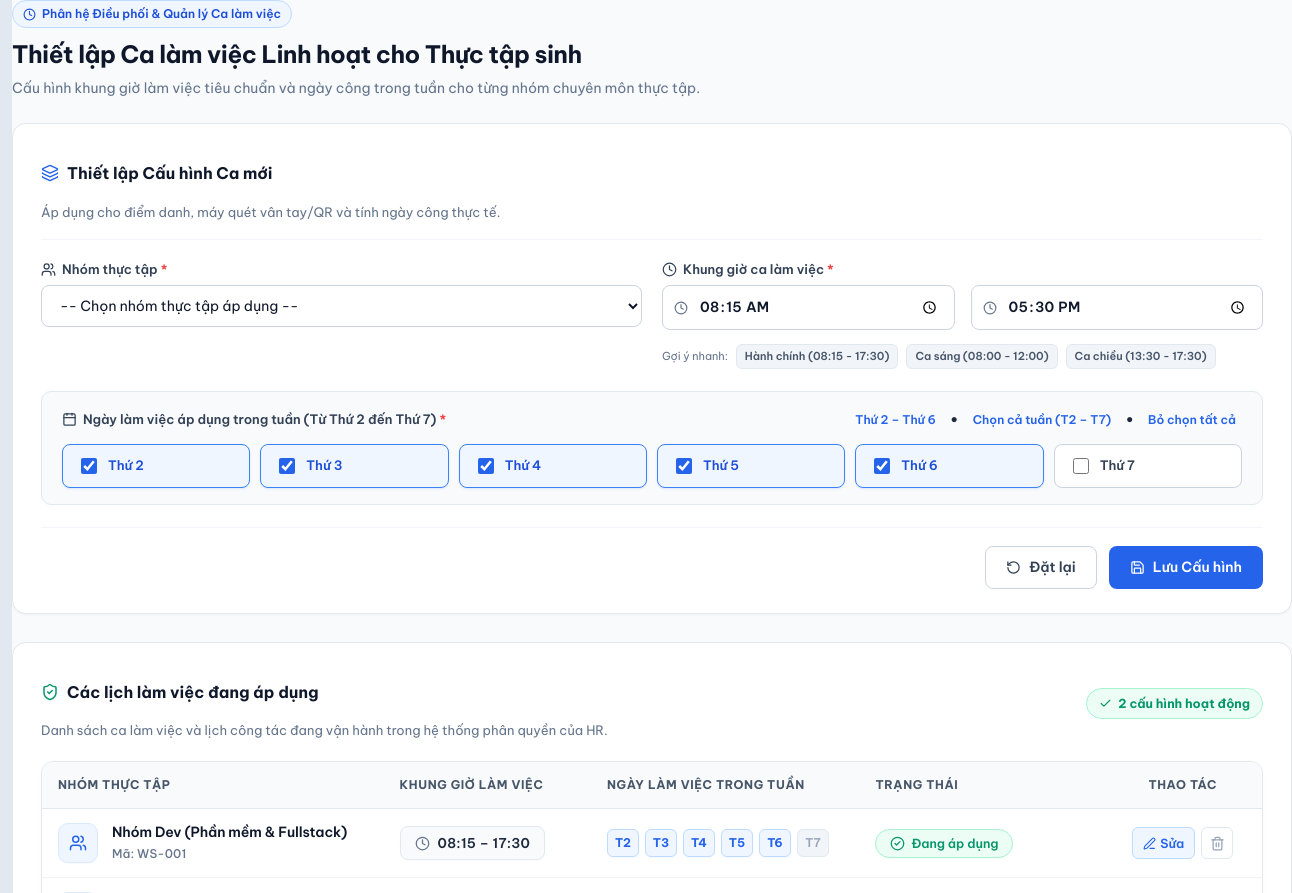
WorkScheduleSettings Component Test Suite › 5. Chức năng Chỉnh sửa Lịch làm việc (Nút "Sửa") › khi cập nhật và lưu thay đổi, gọi API updateWorkSchedule và cập nhật hàng trên bảng
Expected: the row with test id "schedule-row-WS-001" is shown, 42,809 -> 1262,878
# Bấm nút "Sửa" ở dòng WS-001
Click the button with test id "btn-edit-WS-001" at (1164, 843), box 1132,827 -> 1195,860
(page scrolled)
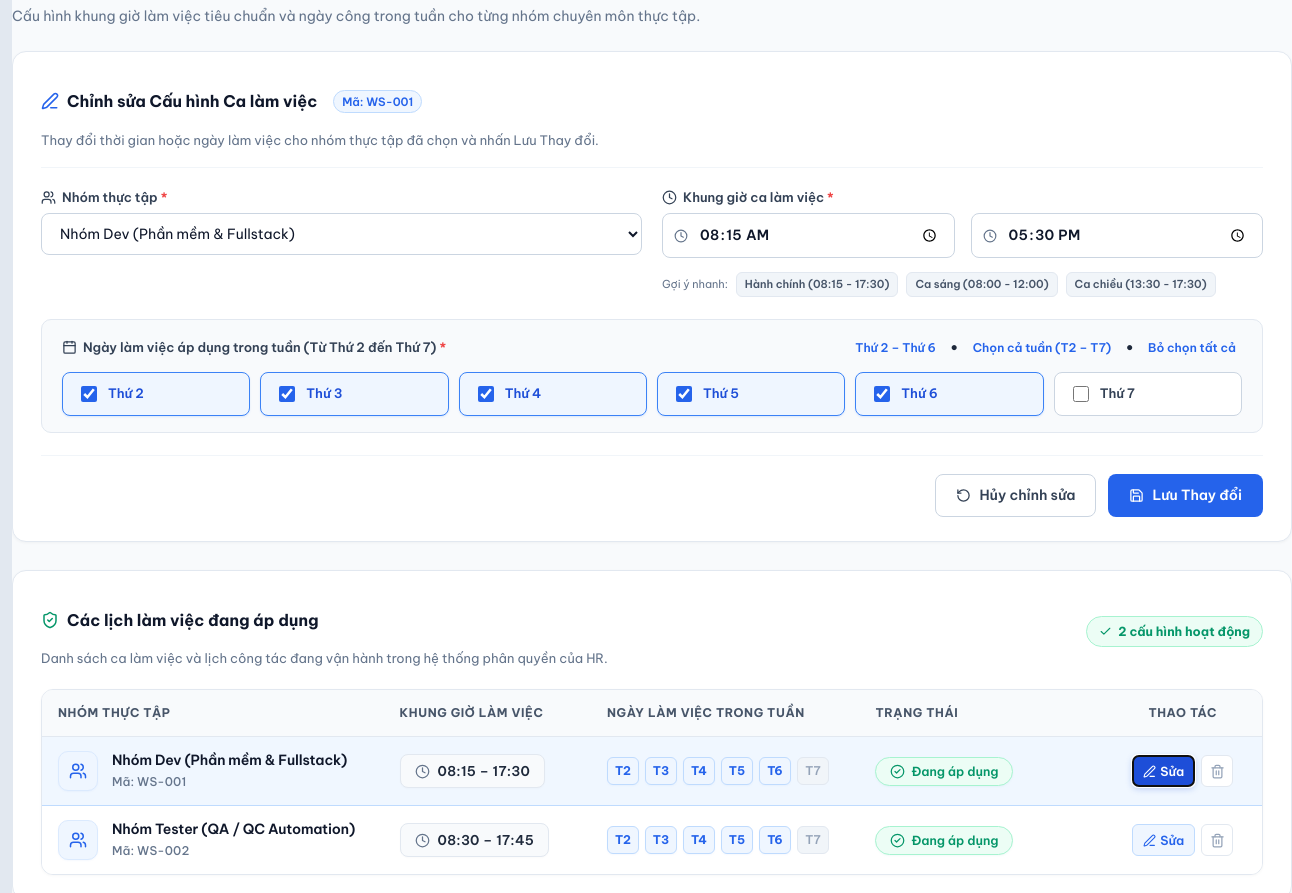
# Thay đổi giờ làm việc
Replace the text in the time field named "Giờ bắt đầu" with "08:00" at (808, 236), box 662,213 -> 954,258
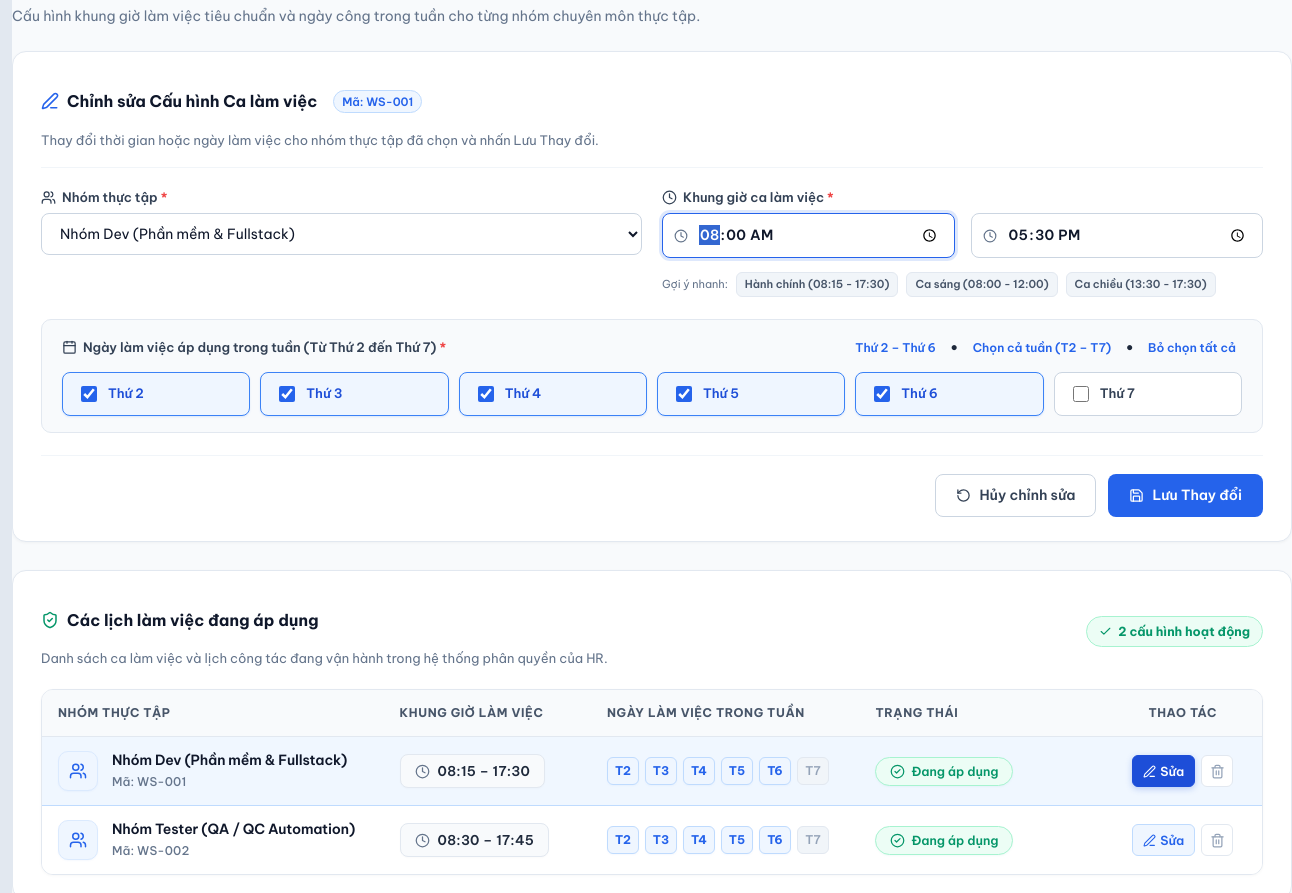
Replace the text in the time field named "Giờ kết thúc" with "17:00" at (1117, 236), box 970,213 -> 1263,258
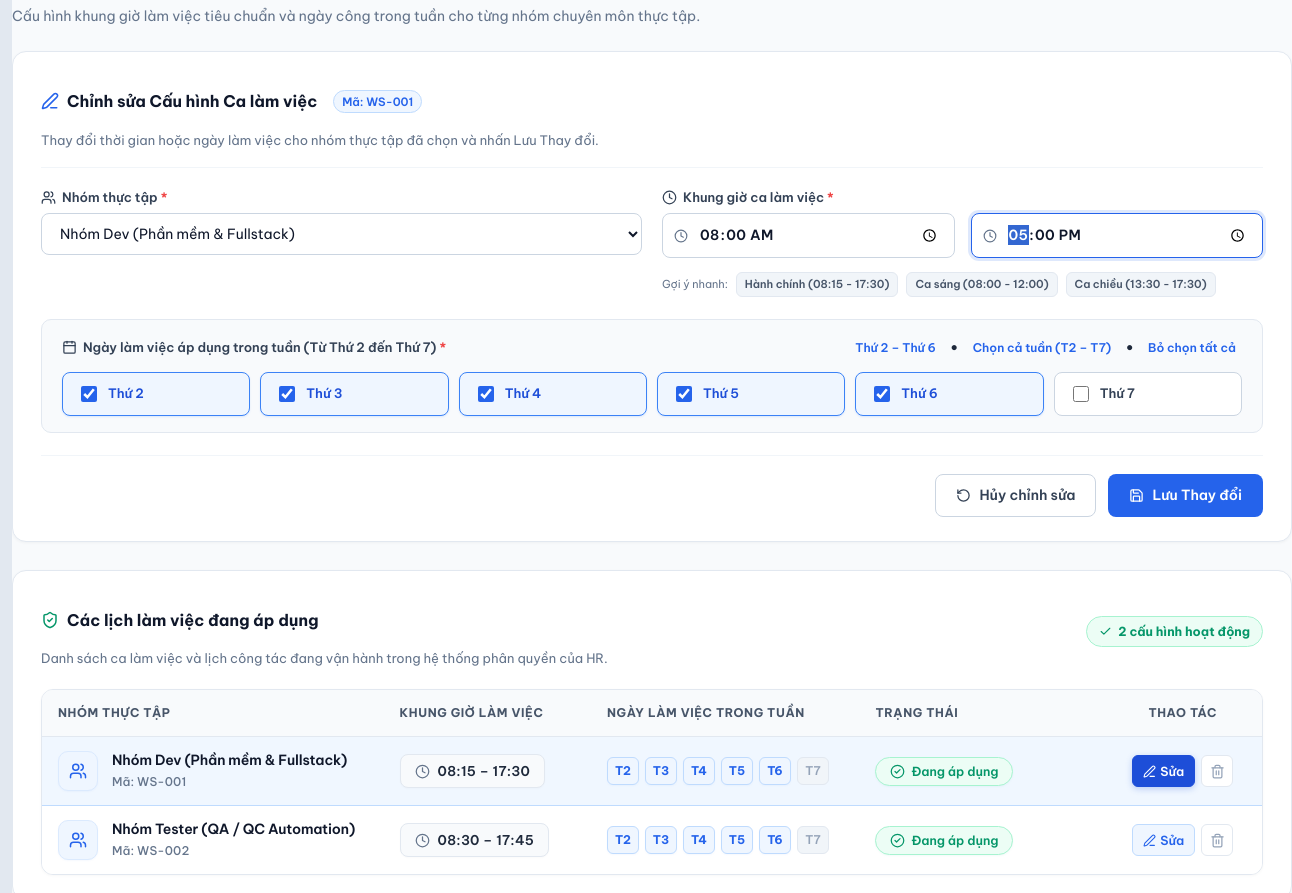
# Bấm "Lưu Thay đổi"
Click the button with test id "btn-save-schedule" at (1186, 495), box 1108,474 -> 1263,516
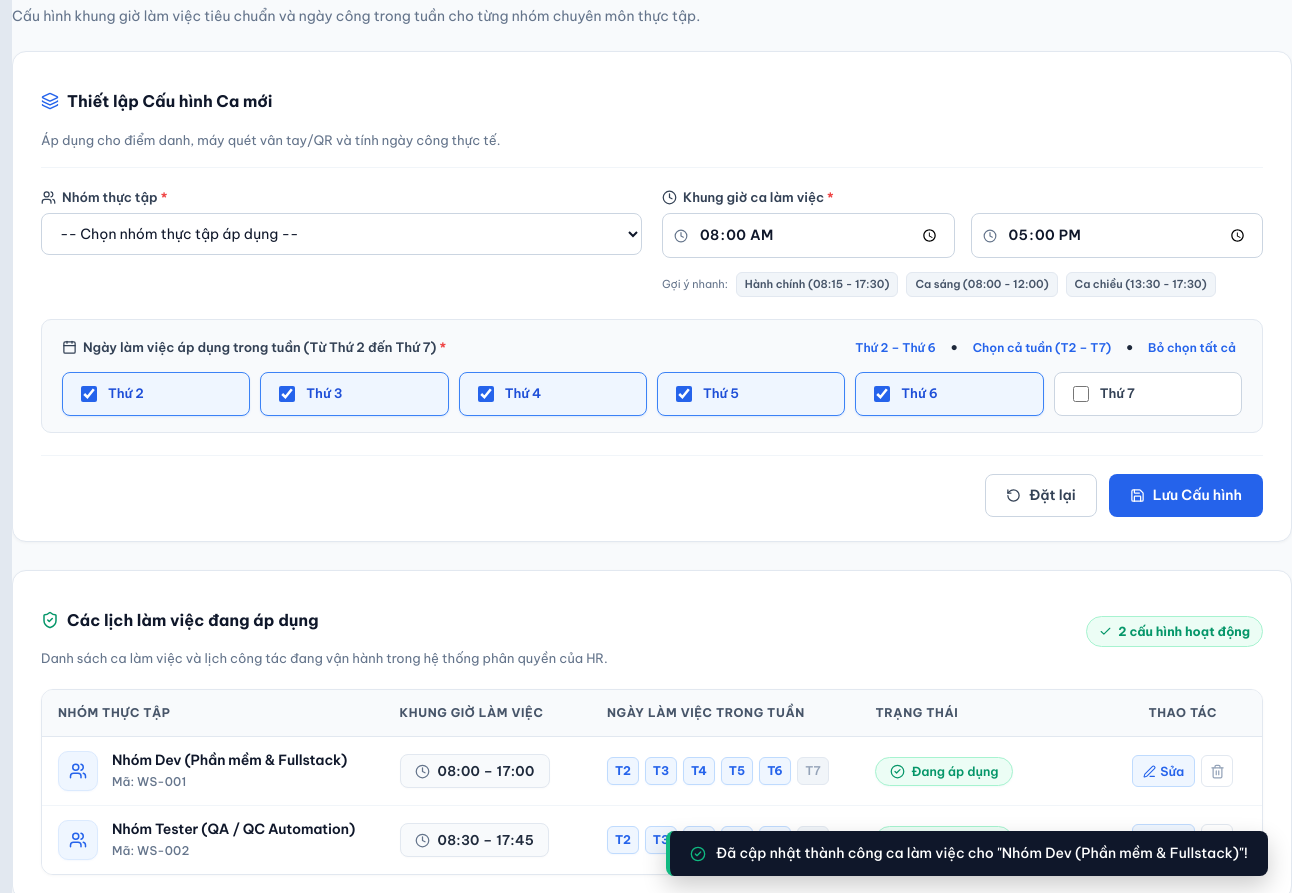
Result: the text "08:00 – 17:00" is shown at 438,761 -> 535,781
Result: the text "Đã cập nhật thành công ca làm việc" is shown at 716,844 -> 1248,862
